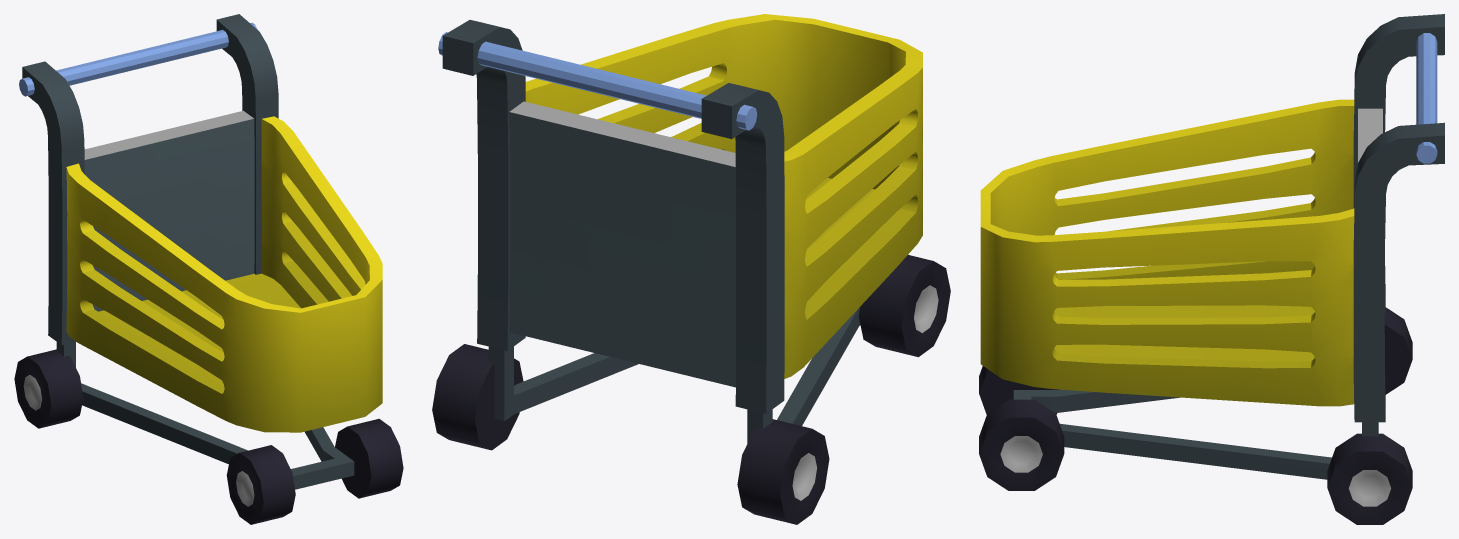
File: ShopCart_01.fbx
3 views of the same model, side by side, from view 1: azimuth 30°, elevation 25°; view 2: azimuth 150°, elevation 25°; view 3: azimuth 270°, elevation 25° (orthographic). The views are drawn at different scales.
Visible parts, largest first — view 1: ShopCart_02; view 2: ShopCart_02; view 3: ShopCart_02.
Part boxes in pixels (x1,y1,x2,y2): ShopCart_02: [14, 14, 403, 524]; ShopCart_02: [432, 14, 950, 524]; ShopCart_02: [979, 14, 1444, 524].
Bounding box in the file's own units: 38.76 × 46.58 × 52.14.
